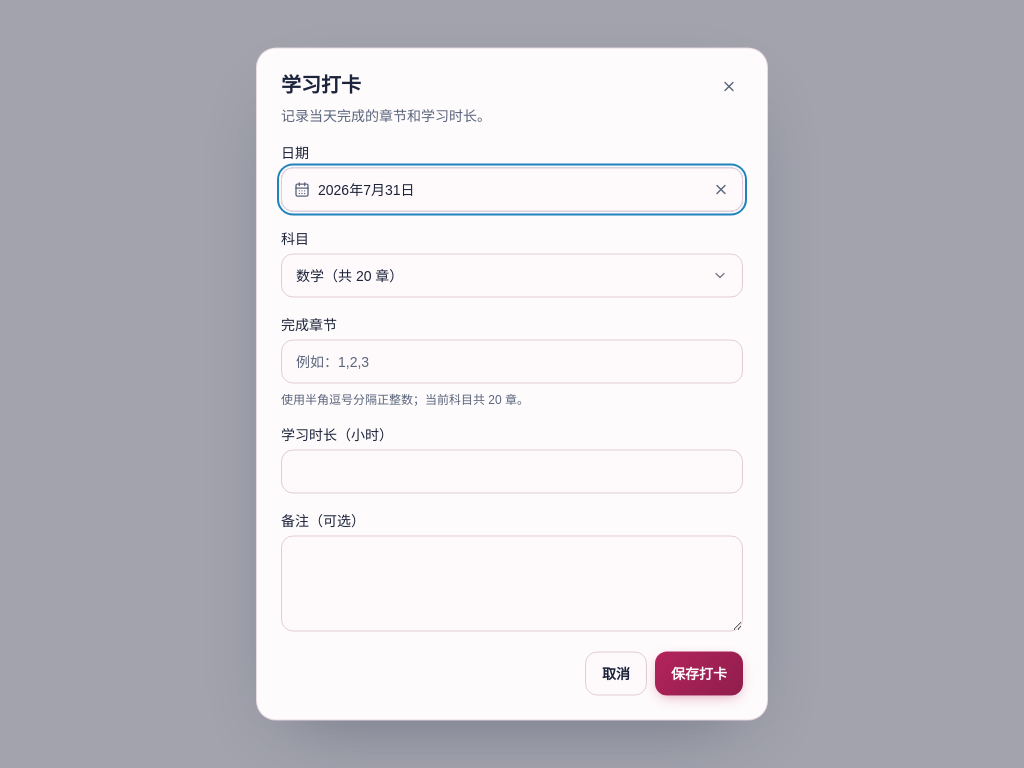
Test: StudyCheckinDialog › rejects 重复章节
Step 1. Click the dropdown named "科目" → click(340, 276), box [281, 254, 743, 298]
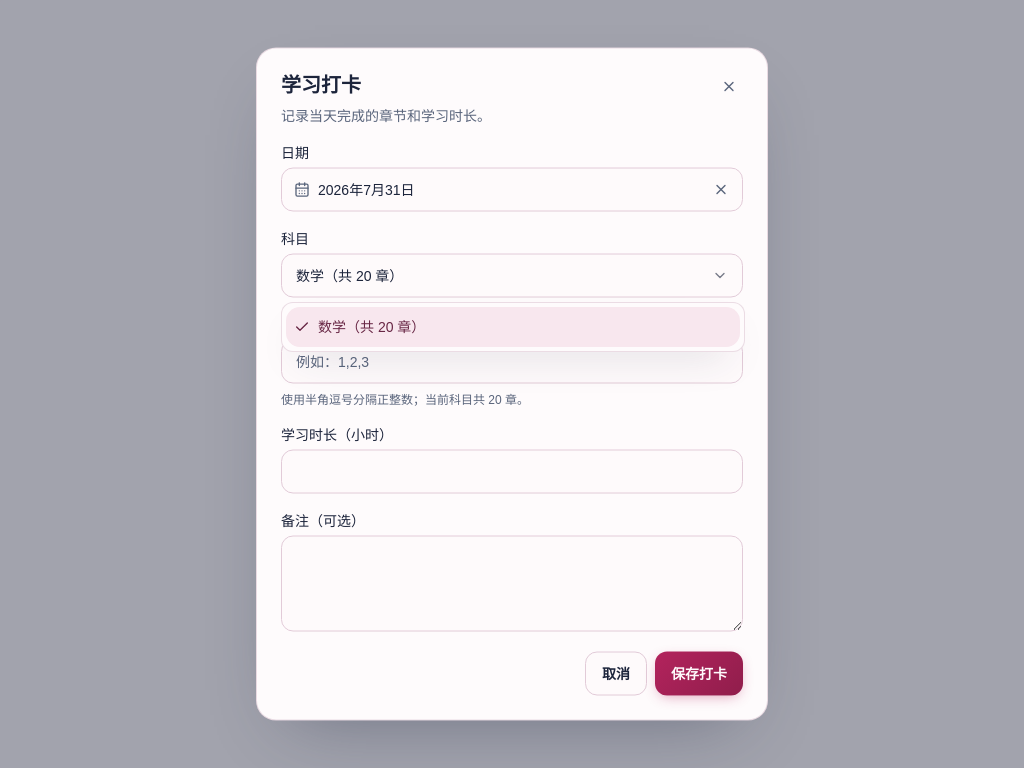
Step 2. Click the option "数学（共 20 章）" → click(362, 327), box [286, 307, 740, 347]
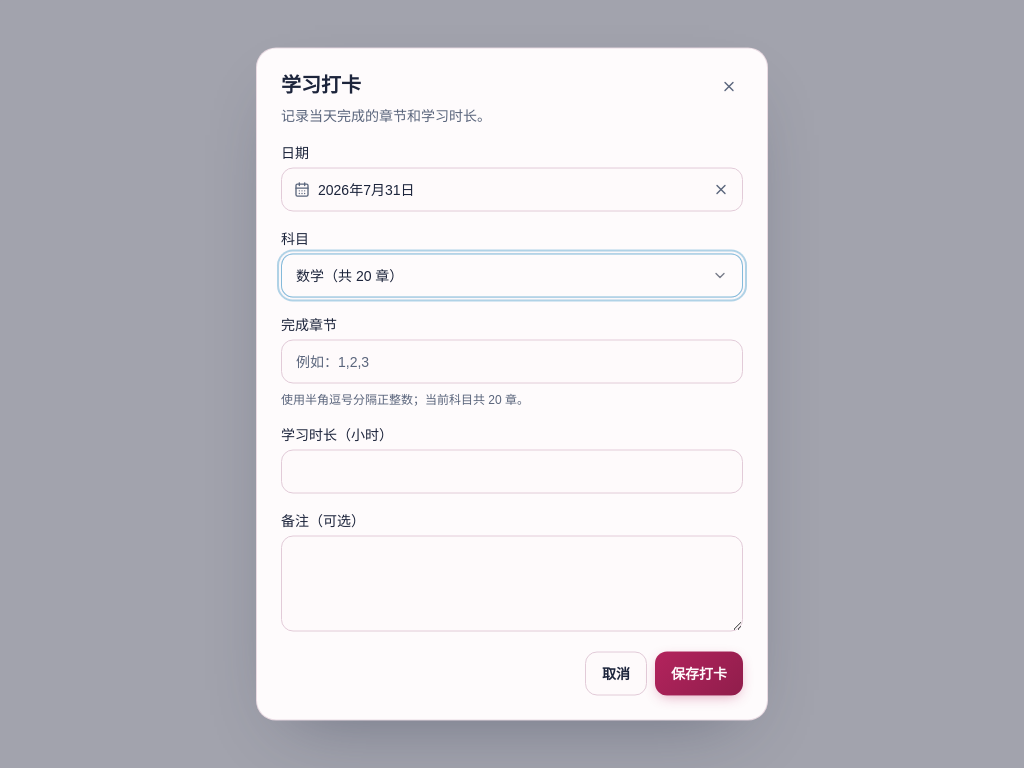
Step 3. Type "1,2,2" into the field labelled "完成章节" → (512, 362), box [281, 340, 743, 384]
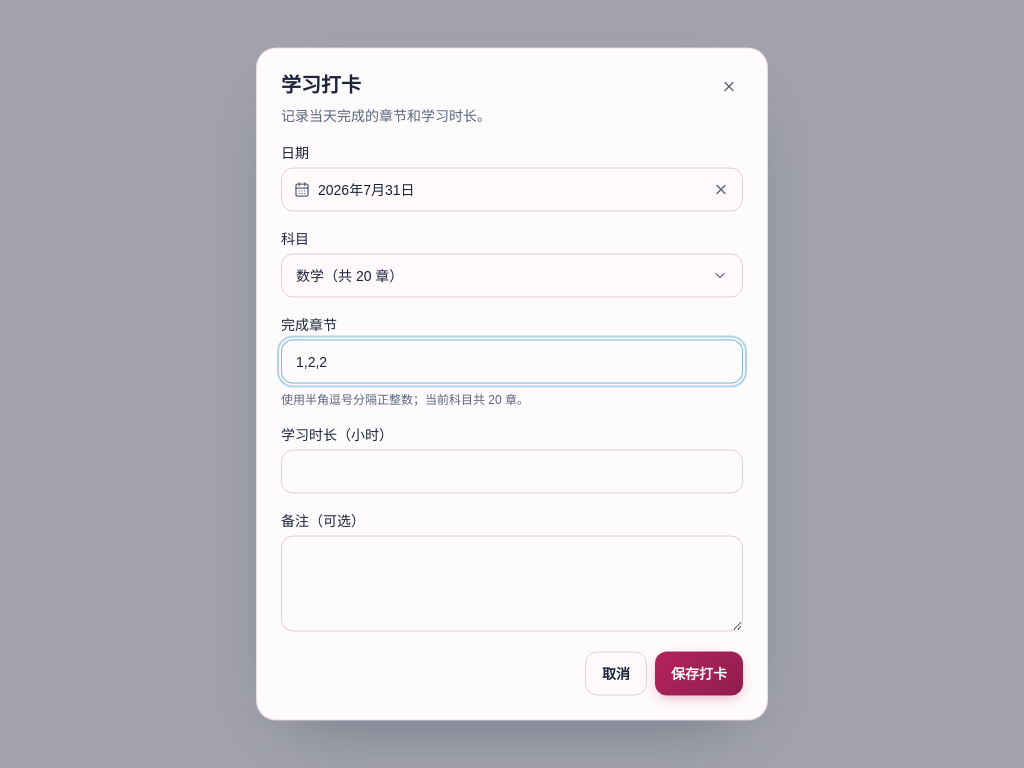
Step 4. Type "1" into the number field labelled "学习时长（小时）" → (512, 472), box [281, 450, 743, 494]
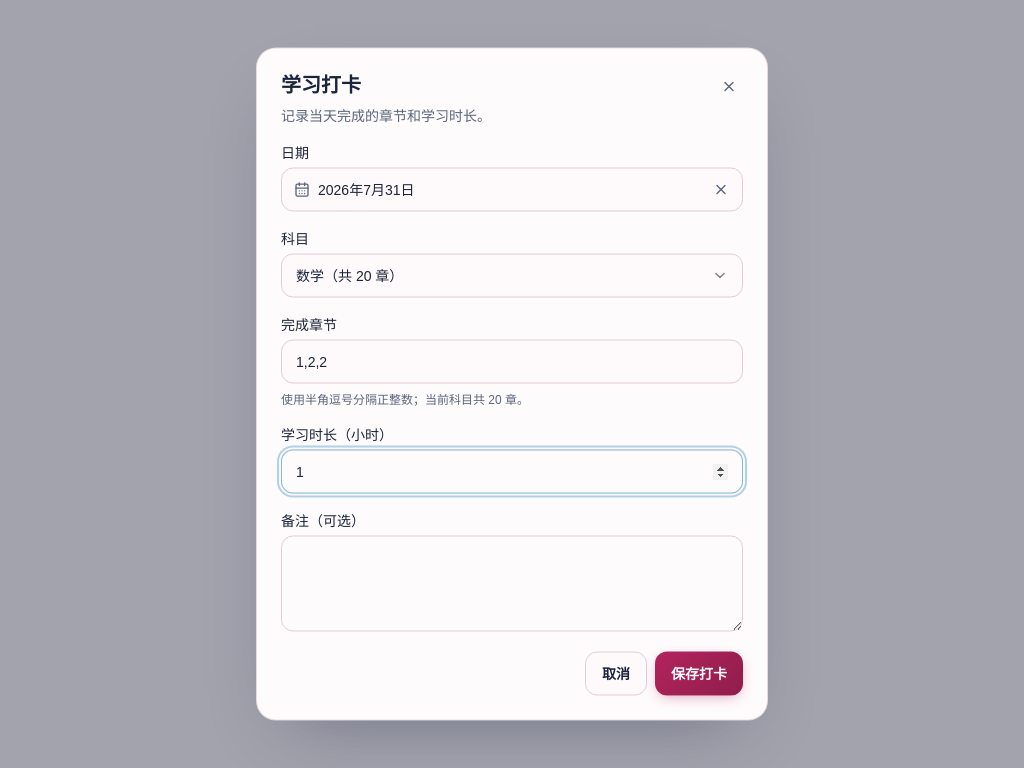
Step 5. Click the button "保存打卡" → click(699, 674), box [655, 652, 743, 696]
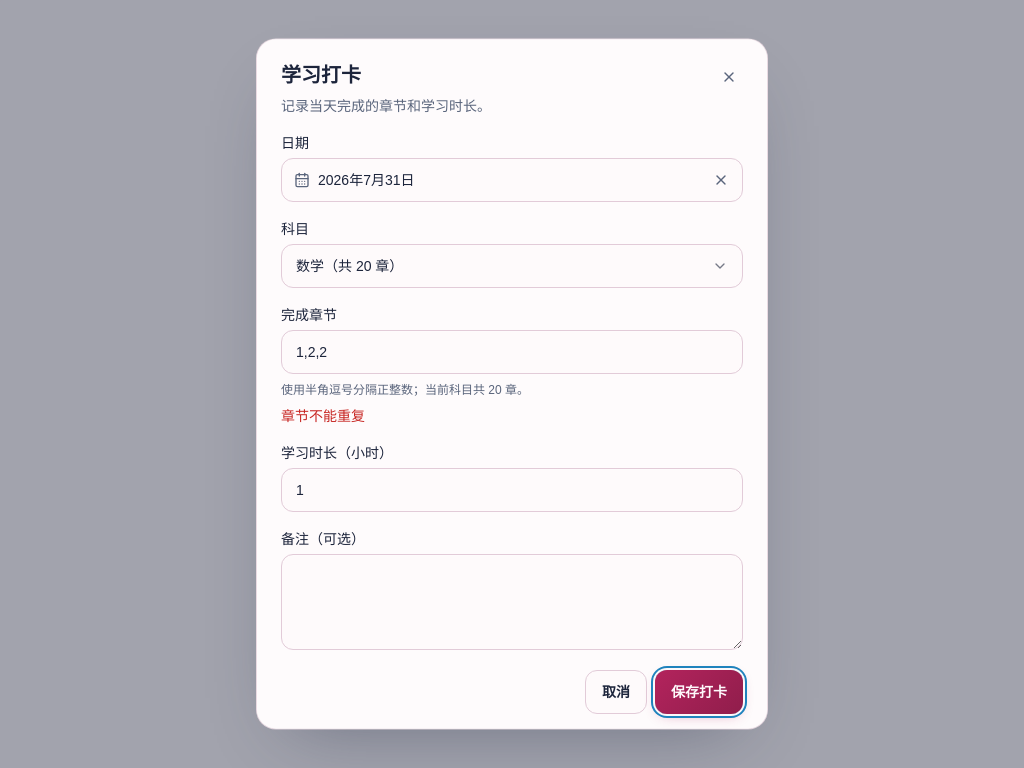
expect the text "章节不能重复" is shown: met, box [281, 408, 365, 424]
